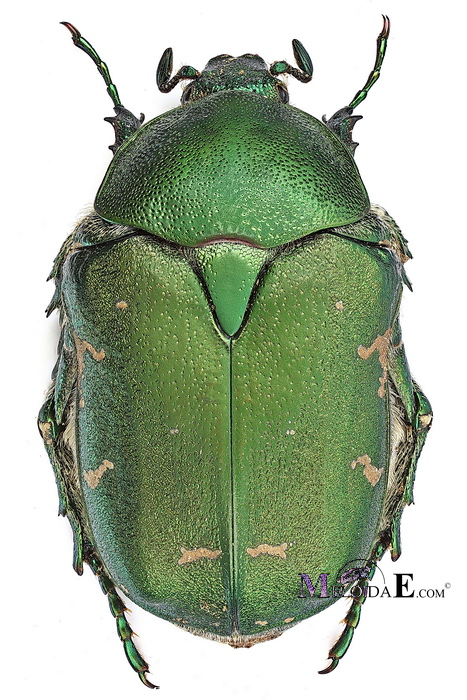Protaetia_ungarica: (27, 7, 427, 695)
